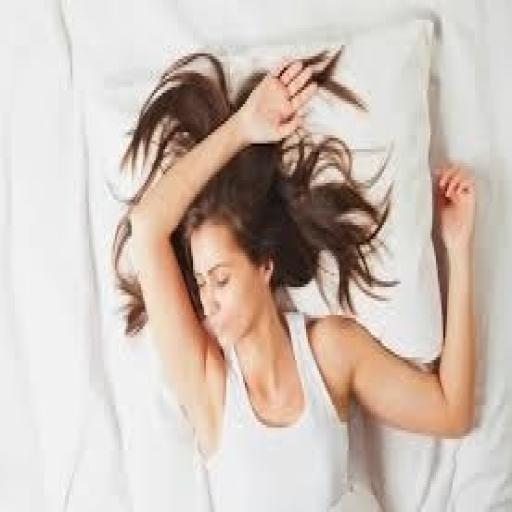sleeping: (108, 34, 478, 509)
